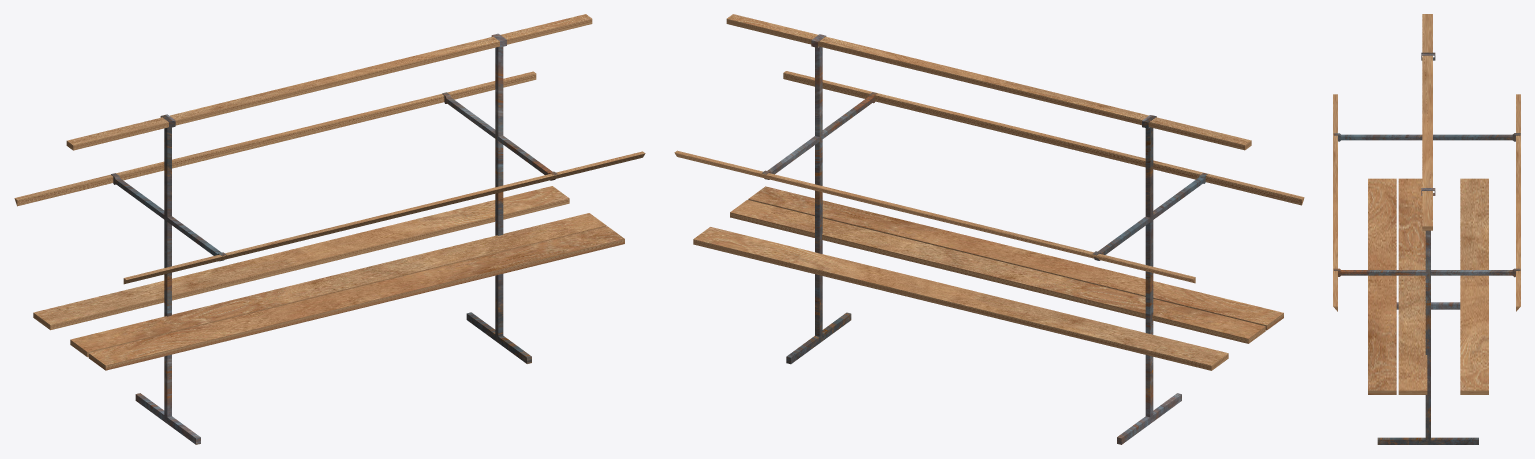
File: tentholder.glb
3 views of the same model, side by side, from view 1: azimuth 30°, elevation 25°; view 2: azimuth 150°, elevation 25°; view 3: azimuth 270°, elevation 25° (orthographic). The views are drawn at different scales.
Parts seen in each view (by area): view 1: Cube.004, Cube.005, Cube.003, Cube, Cube.002, Cube.008, Cube.007, Cube.001; view 2: Cube.005, Cube.003, Cube.004, Cube, Cube.001, Cube.007, Cube.008, Cube.002; view 3: Cube.004, Cube.005, Cube.003, Cube.008, Cube, Cube.007, Cube.001, Cube.002.
Part boxes in pixels (x1=…): Cube.004: x1=88, y1=226, x2=624, y2=370; Cube.005: x1=33, y1=186, x2=569, y2=330; Cube.003: x1=70, y1=213, x2=606, y2=357; Cube: x1=66, y1=14, x2=592, y2=150; Cube.002: x1=14, y1=71, x2=536, y2=206; Cube.008: x1=442, y1=33, x2=557, y2=363; Cube.007: x1=111, y1=114, x2=226, y2=444; Cube.001: x1=123, y1=151, x2=645, y2=284; Cube.005: x1=693, y1=227, x2=1228, y2=370; Cube.003: x1=730, y1=200, x2=1265, y2=343; Cube.004: x1=748, y1=186, x2=1283, y2=330; Cube: x1=726, y1=14, x2=1251, y2=150; Cube.001: x1=783, y1=71, x2=1304, y2=205; Cube.007: x1=1092, y1=115, x2=1207, y2=444; Cube.008: x1=761, y1=34, x2=877, y2=364; Cube.002: x1=674, y1=150, x2=1195, y2=283; Cube.004: x1=1368, y1=178, x2=1396, y2=394; Cube.005: x1=1460, y1=178, x2=1488, y2=394; Cube.003: x1=1398, y1=178, x2=1427, y2=394; Cube.008: x1=1333, y1=188, x2=1520, y2=444; Cube: x1=1422, y1=14, x2=1432, y2=230; Cube.007: x1=1333, y1=52, x2=1520, y2=309; Cube.001: x1=1333, y1=94, x2=1337, y2=311; Cube.002: x1=1516, y1=94, x2=1520, y2=311.
Bounding box in the file's own units: 6.28 × 3.52 × 2.35.
2 materials, 2 textured.
